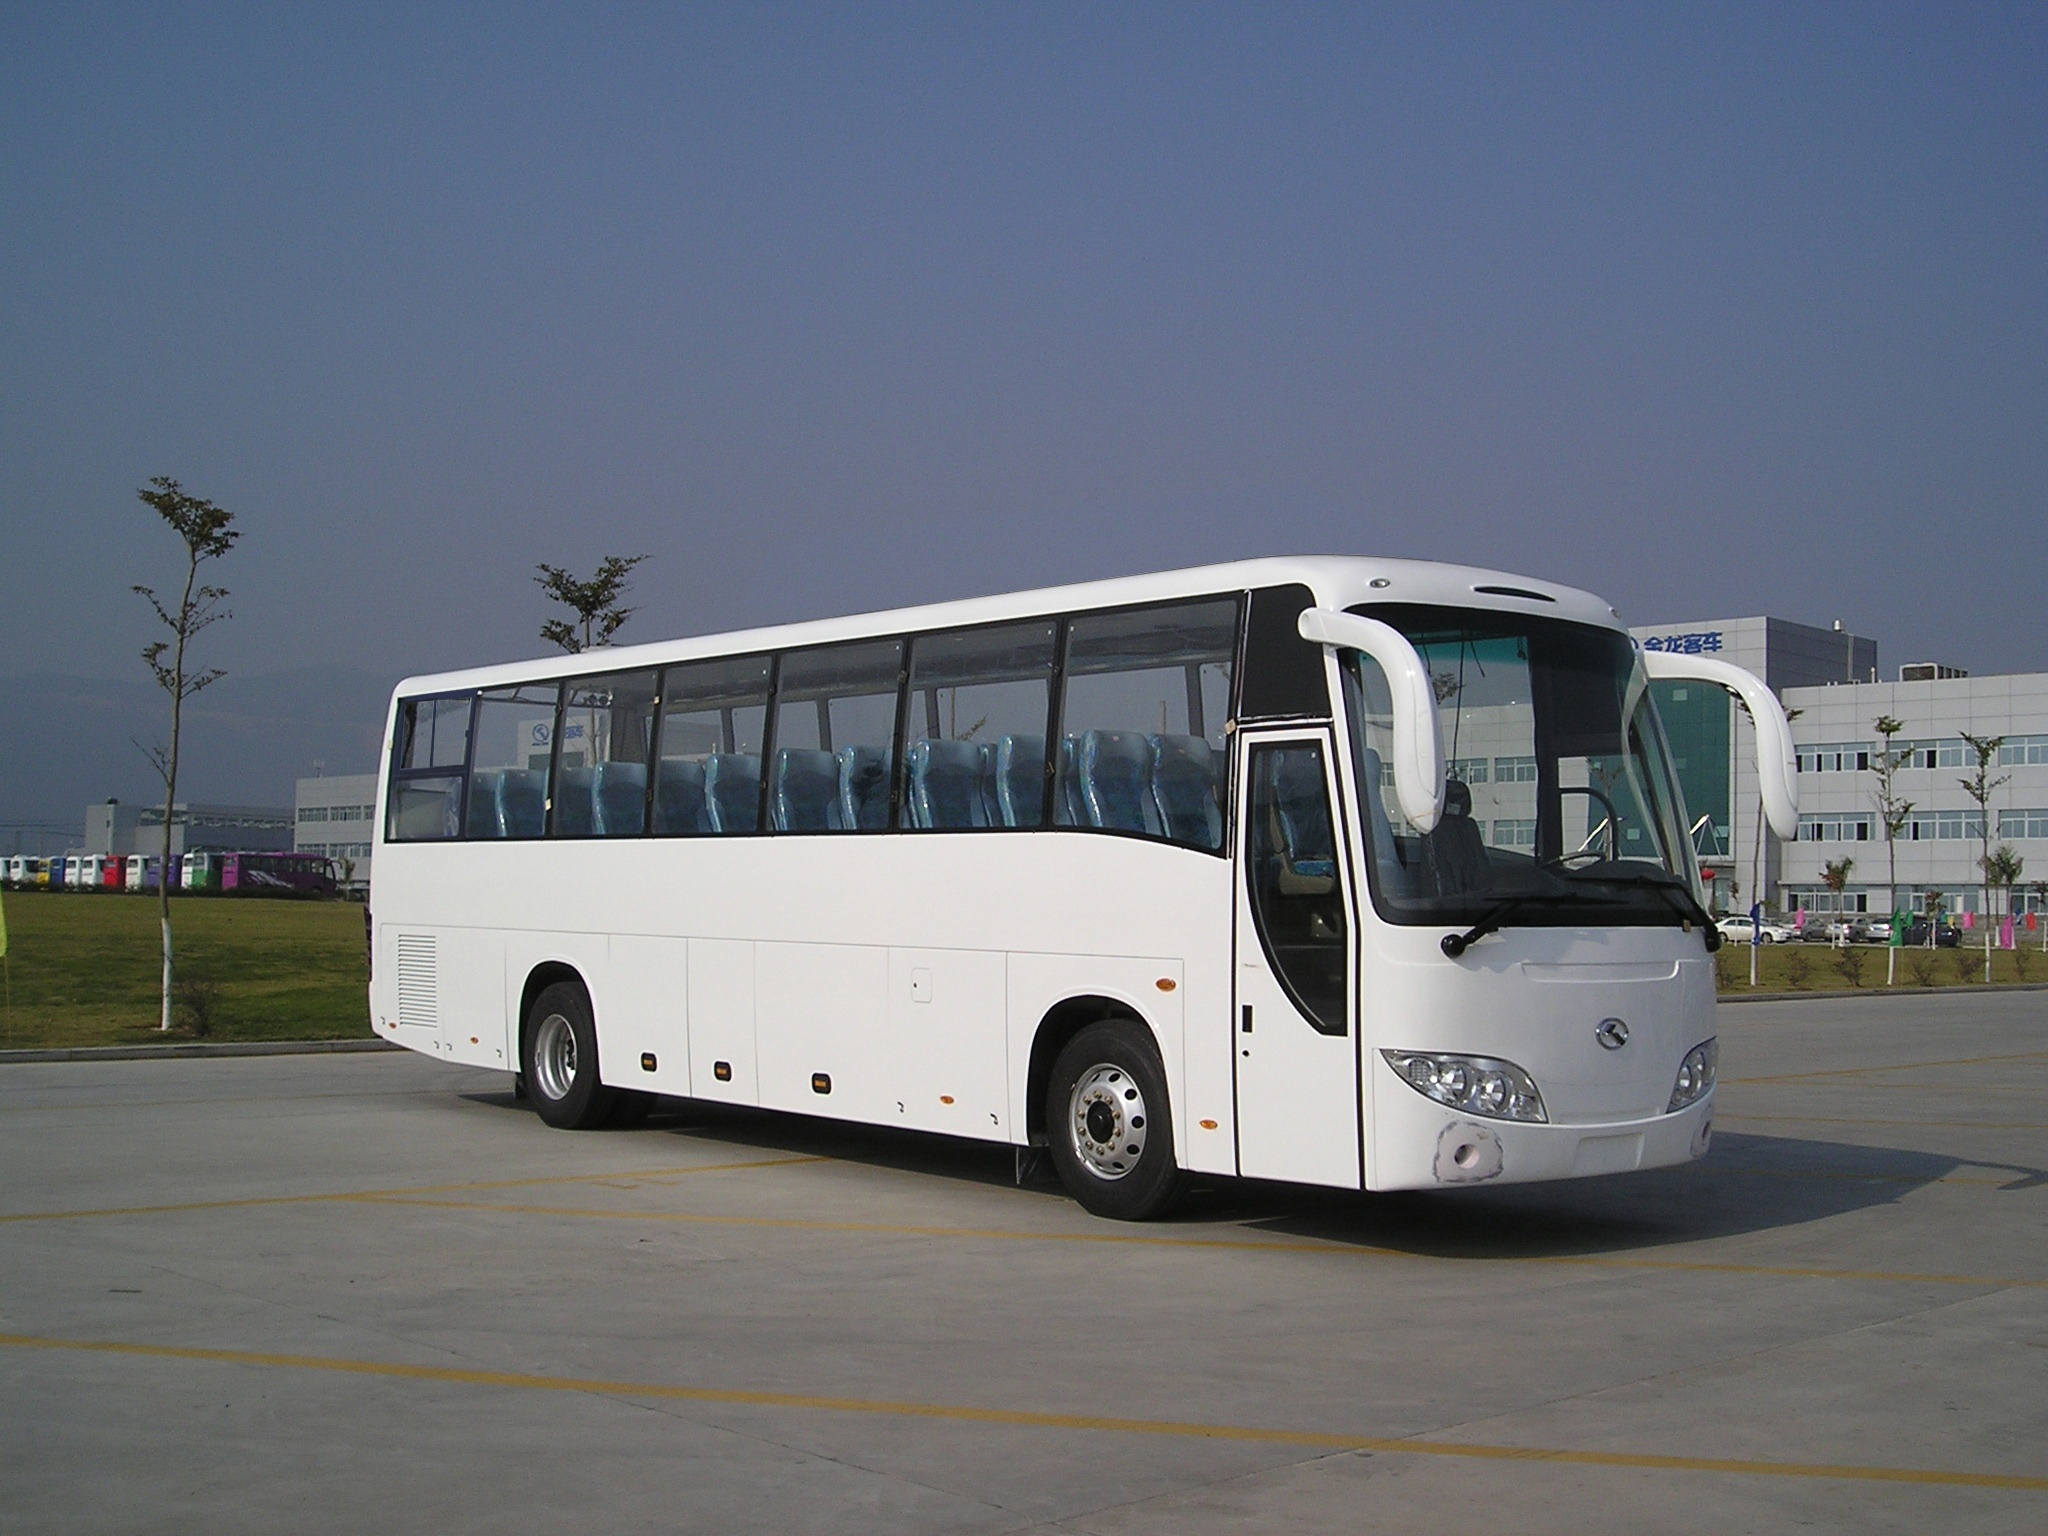bus: (360, 550, 1811, 1238)
